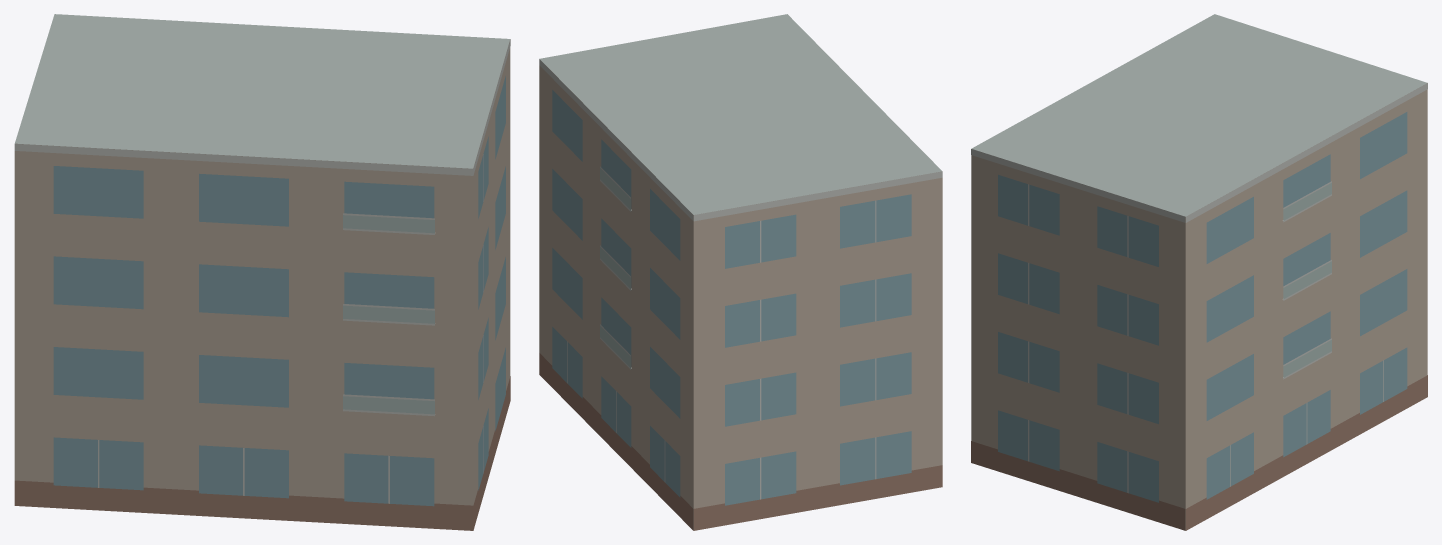
File: survey-upis-32850775.glb
3 views of the same model, side by side, from view 1: azimuth 30°, elevation 25°; view 2: azimuth 150°, elevation 25°; view 3: azimuth 270°, elevation 25° (orthographic). The views are drawn at different scales.
Parts seen in each view (by area): view 1: survey-upis-32850775.tmp; view 2: survey-upis-32850775.tmp; view 3: survey-upis-32850775.tmp.
Boxes of the visible parts, box(x1,y1,x2,y2) form: survey-upis-32850775.tmp: box(14, 14, 510, 530); survey-upis-32850775.tmp: box(539, 14, 942, 530); survey-upis-32850775.tmp: box(971, 14, 1427, 530).
Size of the model in its own units: 16.9 by 12.2 by 16.08.
